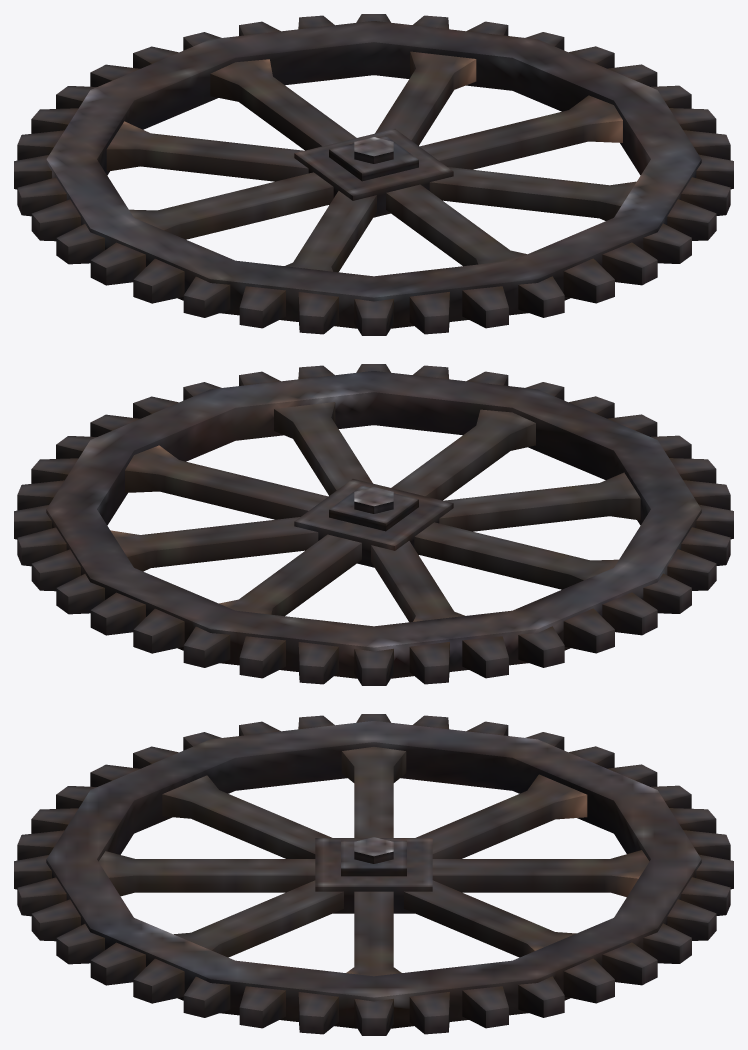
Rendered from SM_zhucheng_chilun.FBX.
3 renders of one model, top to bottom at view 1: azimuth 30°, elevation 25°; view 2: azimuth 150°, elevation 25°; view 3: azimuth 270°, elevation 25°, orthographic.
Visible parts, largest first — view 1: SM_zhucheng_chilun; view 2: SM_zhucheng_chilun; view 3: SM_zhucheng_chilun.
Part boxes in pixels (box(x1,y1,x2,y2)): SM_zhucheng_chilun: box(14, 14, 733, 335); SM_zhucheng_chilun: box(14, 364, 733, 685); SM_zhucheng_chilun: box(14, 714, 733, 1035).
Bounding box in the file's own units: 331 × 23.08 × 331.
